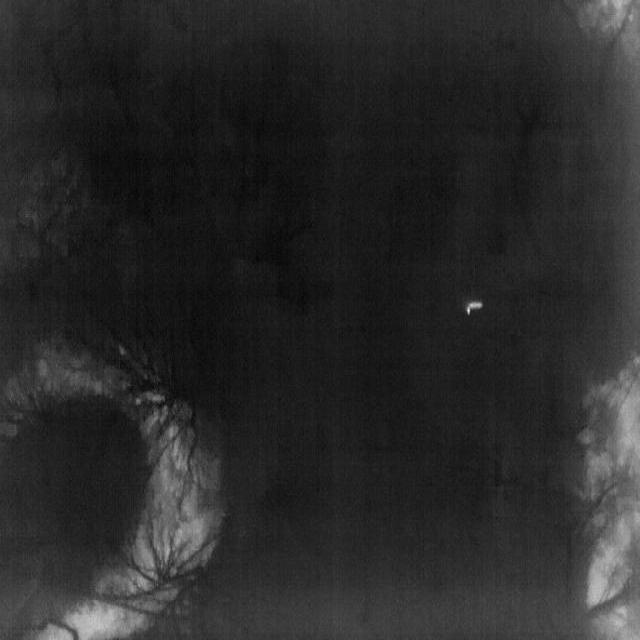deer: (466, 302, 482, 316)
